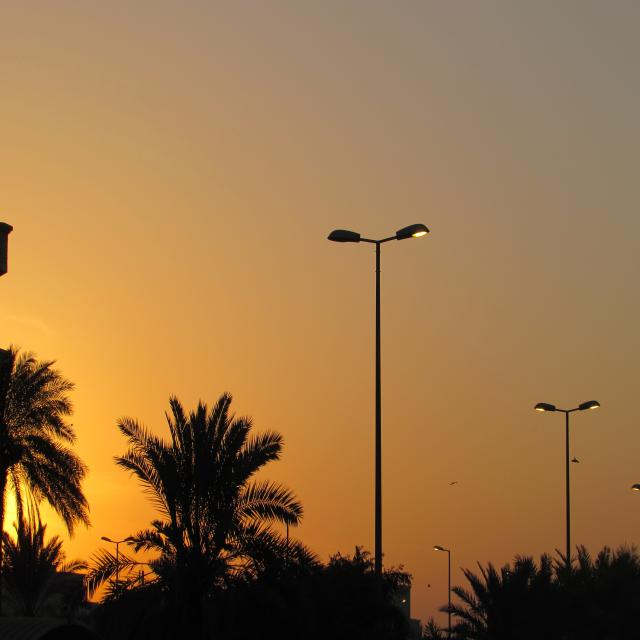Street Light: (327, 225, 429, 639), (534, 398, 600, 640), (433, 544, 452, 640)
